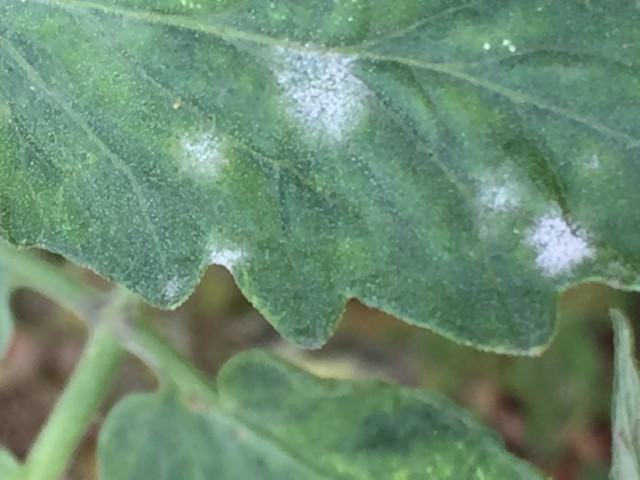oidio: (269, 45, 375, 141), (526, 200, 597, 280), (184, 132, 225, 178), (476, 171, 518, 214), (210, 246, 248, 272), (583, 152, 599, 171), (166, 280, 180, 297)
